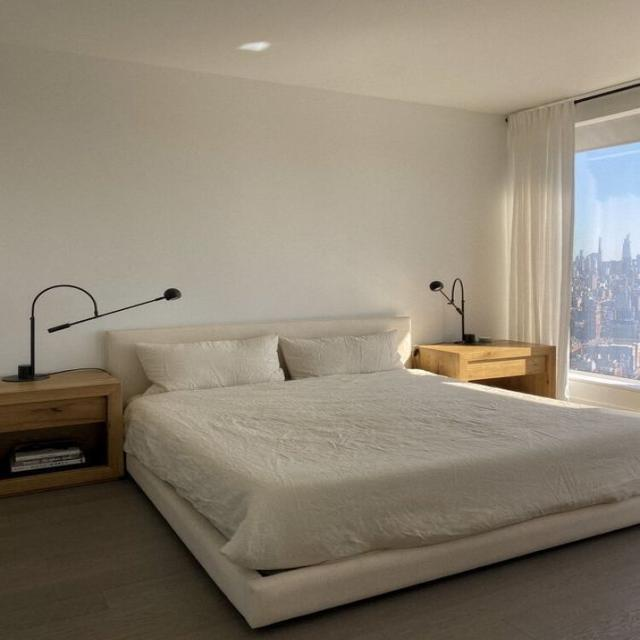obstacle: (105, 315, 639, 630), (0, 377, 114, 485), (414, 338, 556, 398)
